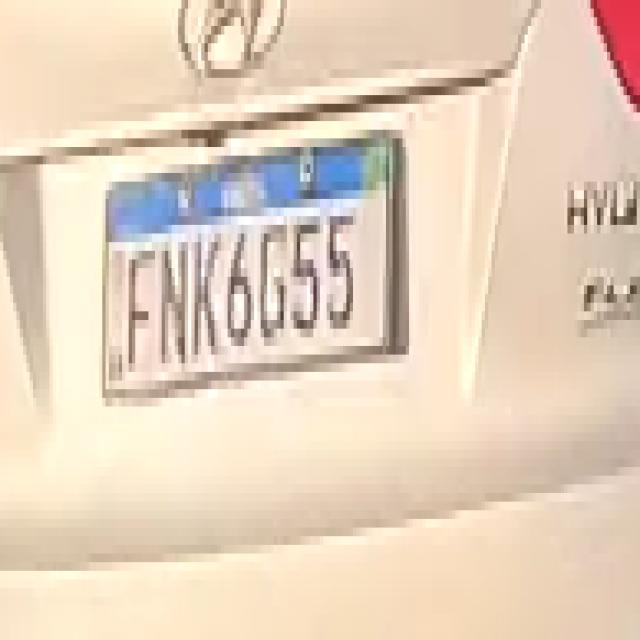Placa_mercosul_carro: (103, 131, 395, 401)
